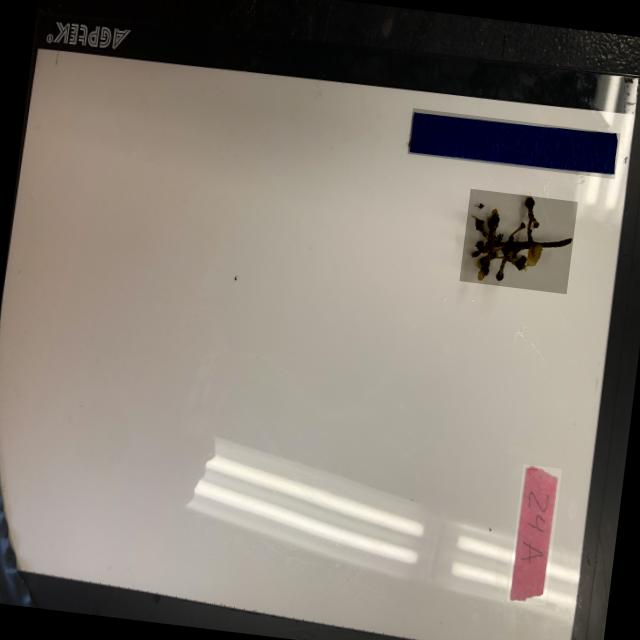index: (505, 464, 561, 606)
measure_label: (406, 108, 619, 178)
rachis_cluster: (458, 188, 576, 294)
